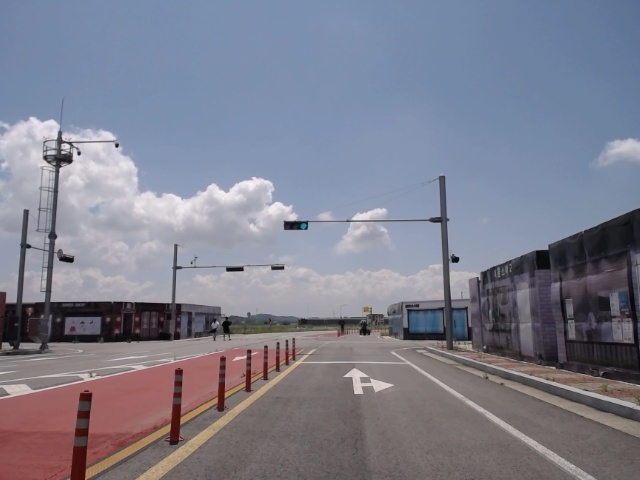green_3: (283, 221, 308, 230)
